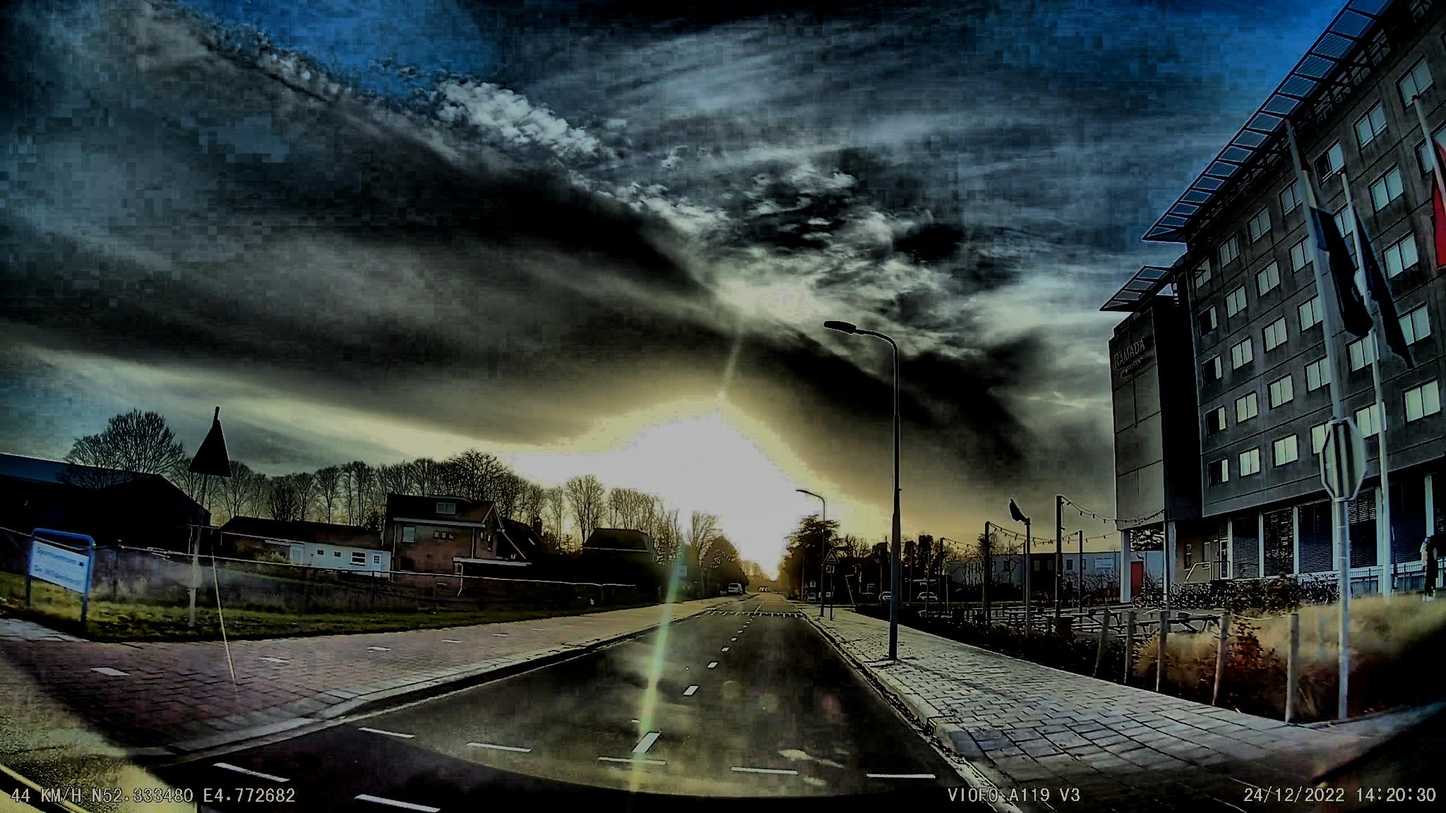Roads: (202, 610, 959, 813)
